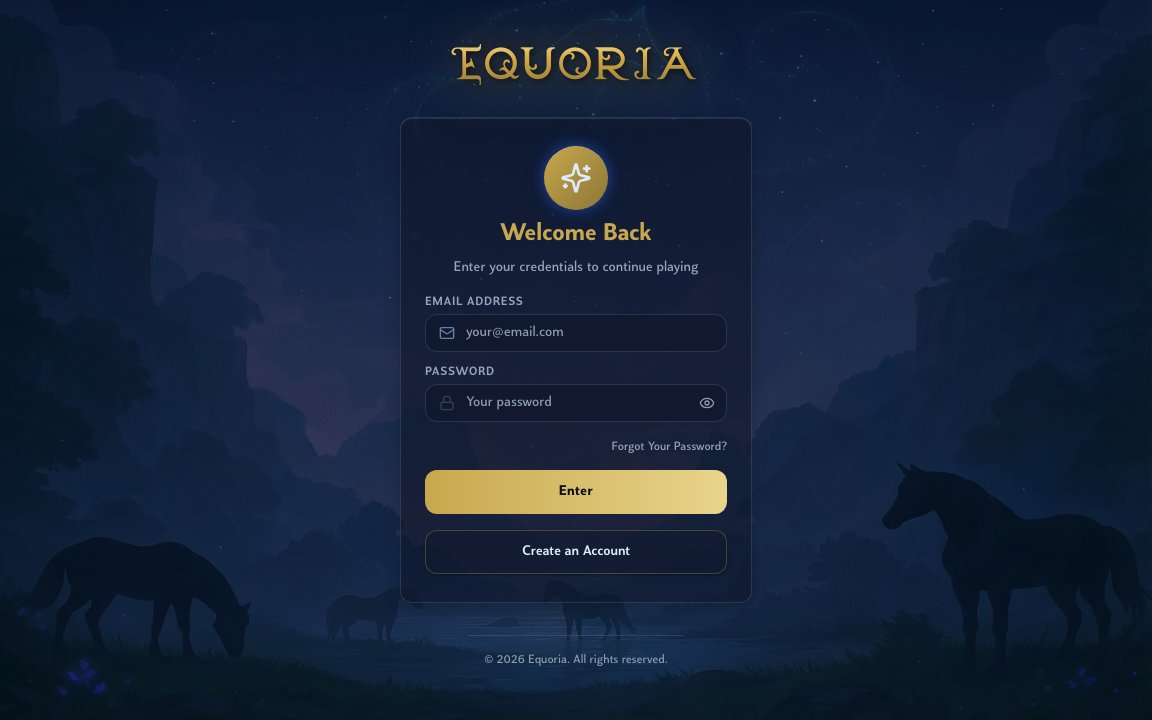
Test: LoginPage — credential error copy › displays invalid credentials error
Type "wrong@example.com" into the field labelled "Email Address" at coordinates (576, 332), box x1=425 y1=314 x2=727 y2=352
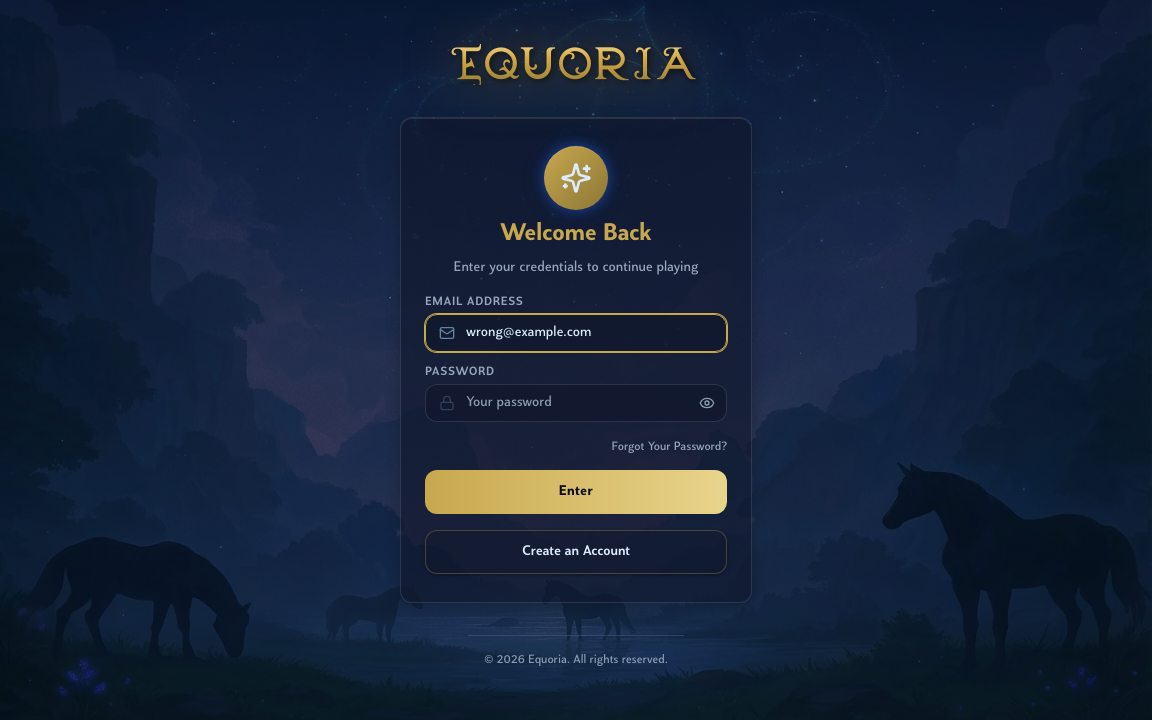
Type "wrongpassword" into the password field labelled "Password" at coordinates (576, 402), box x1=425 y1=384 x2=727 y2=422
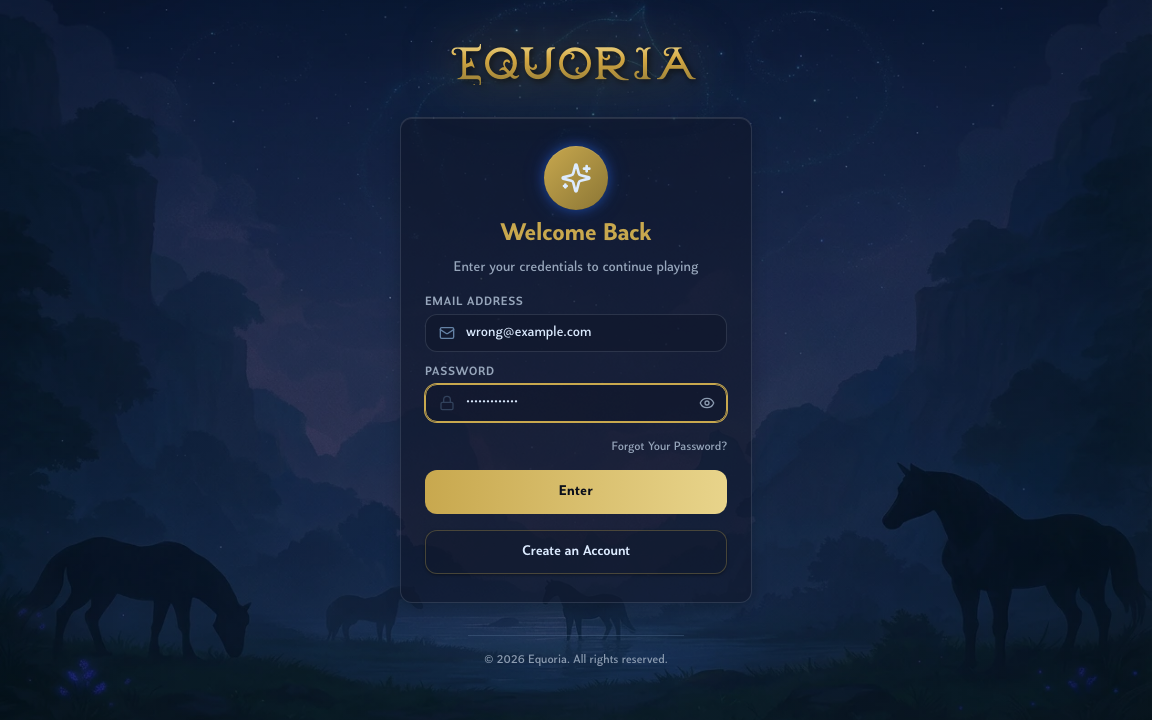
Click the button "Enter" at coordinates (576, 492), box x1=425 y1=470 x2=727 y2=514
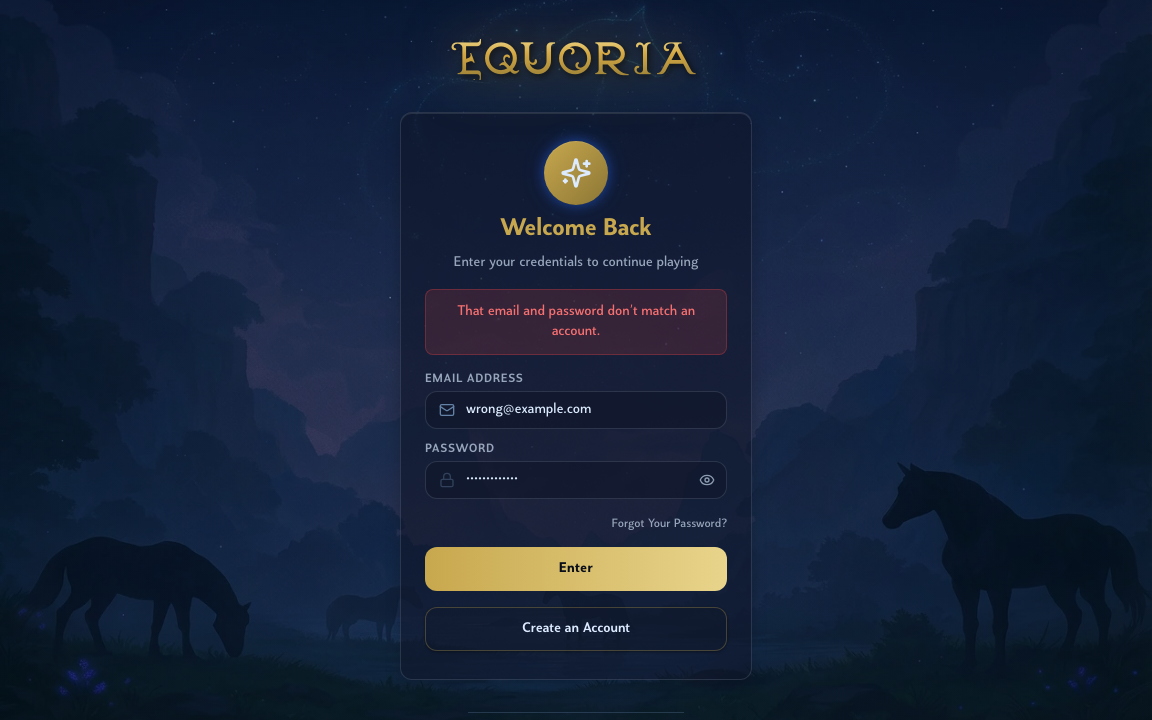
expect the text "That email and password don't match an account." is shown: met, box x1=438 y1=302 x2=714 y2=342
